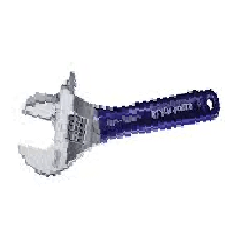Wrench: (15, 63, 225, 182)
